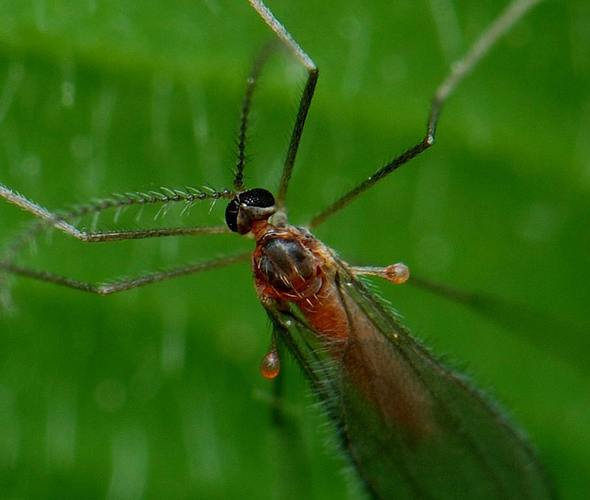Cecidomyiidae: (2, 2, 590, 500)
